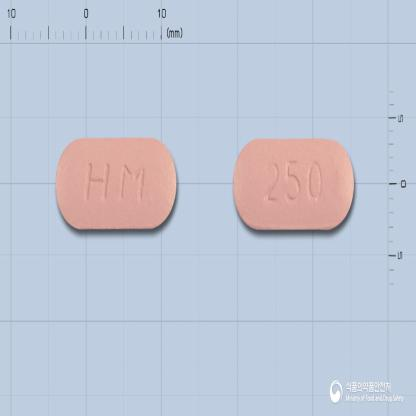pill: (54, 136, 178, 231), (232, 137, 355, 231)
